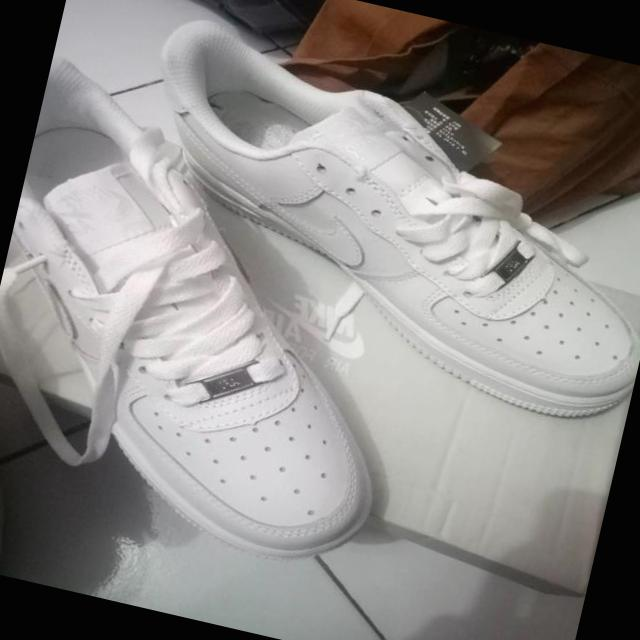nike_fake_airforce: (0, 57, 456, 575), (105, 5, 640, 434)
